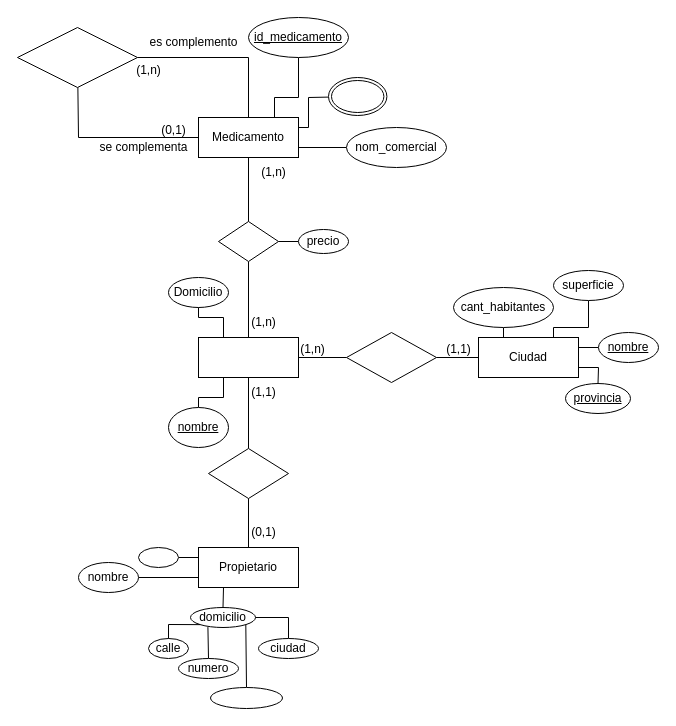
The diagram is 676 pixels wide and 726 high, and some of its shapes have lost their labels. The box of each missing label's shape, as (x1, y1, x2, y2) in pixels:
cod_postal: (210, 686, 282, 708)
complementa: (16, 26, 138, 88)
dni: (138, 546, 178, 568)
droga: (328, 76, 387, 116)
Farmacia: (198, 336, 298, 378)
pertenece: (208, 448, 288, 498)
ubicada en: (346, 332, 436, 382)
vende: (218, 220, 278, 262)
